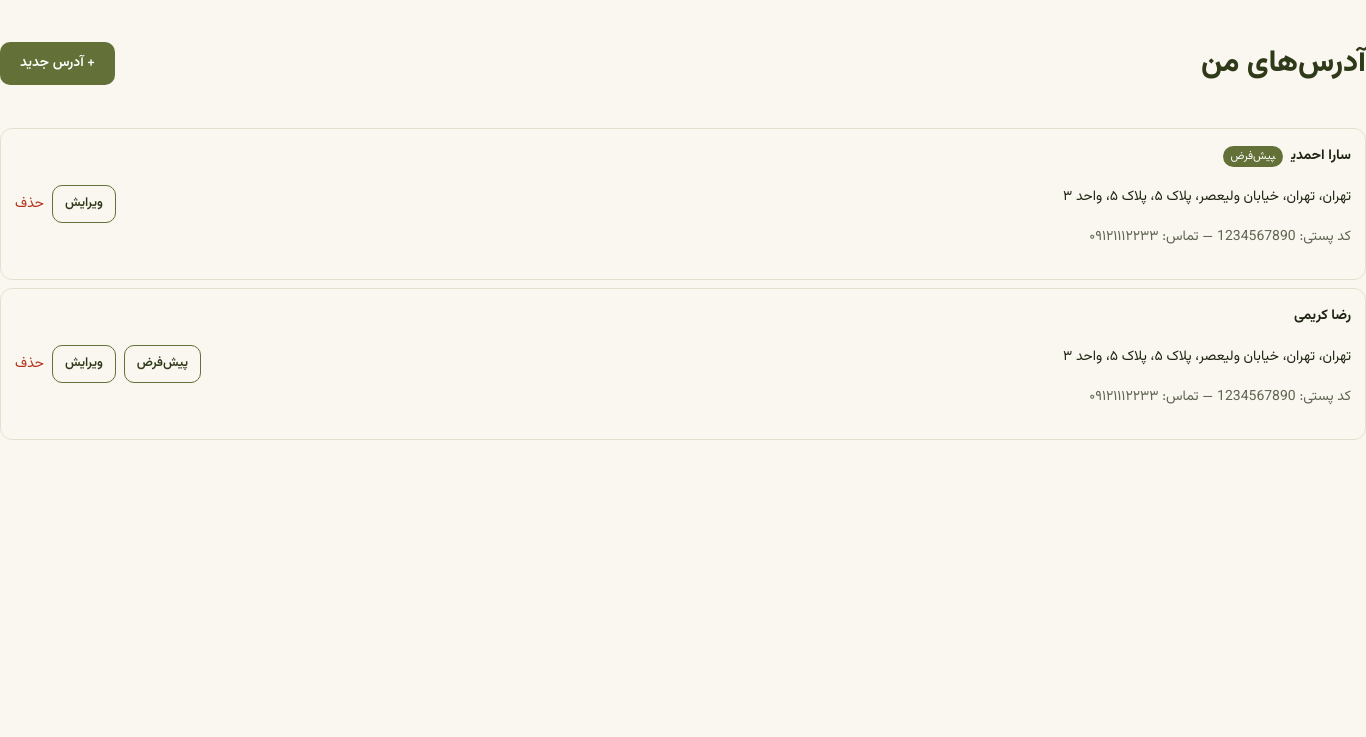
Test case: saved-address collection refreshes › re-fetches the paginated collection after default, edit and delete
The image size is (1366, 737).
Expected: the text "سارا احمدی" is shown, [1292,145,1351,167]
Click the button "پیش‌فرض" at (162, 364), box [124,345,201,383]
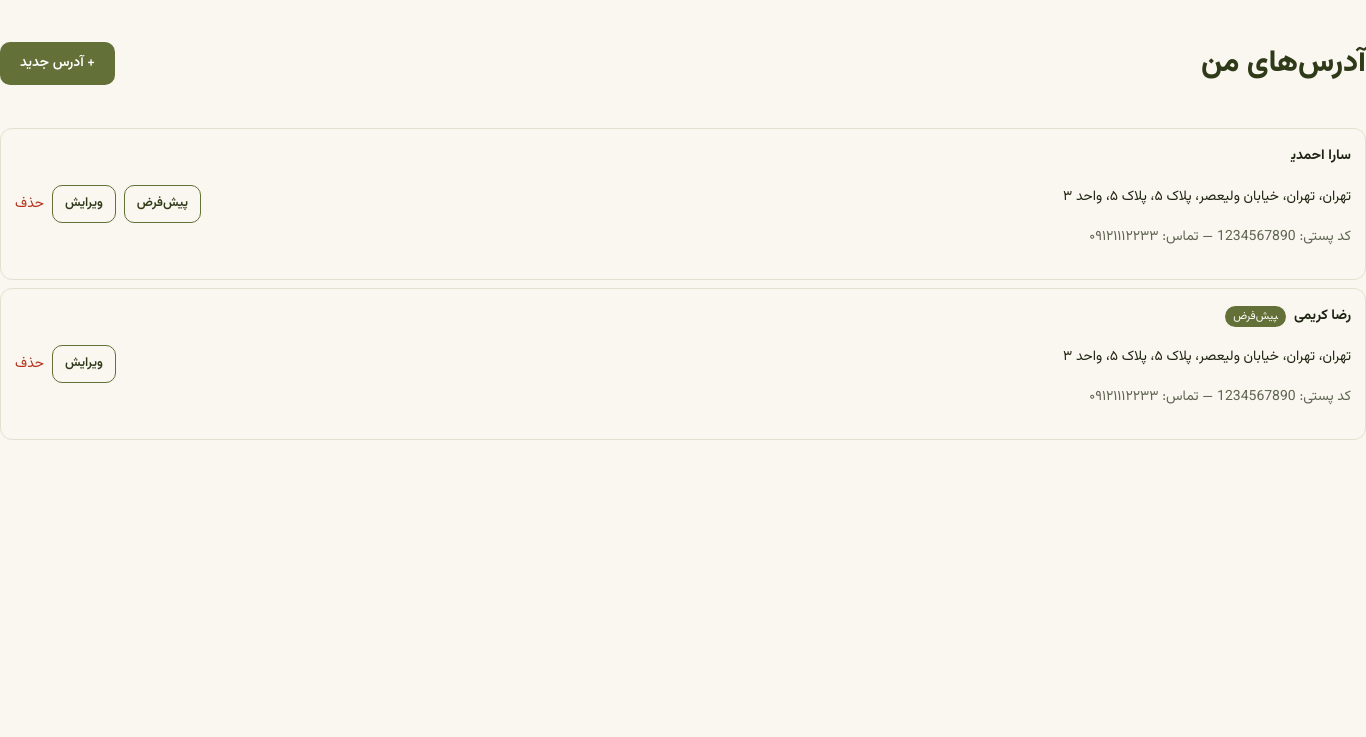
Expected: the text "پیش‌فرض" is shown, [1225,306,1286,327]
Click the 2nd button "ویرایش" at (84, 364), box [52,345,116,383]
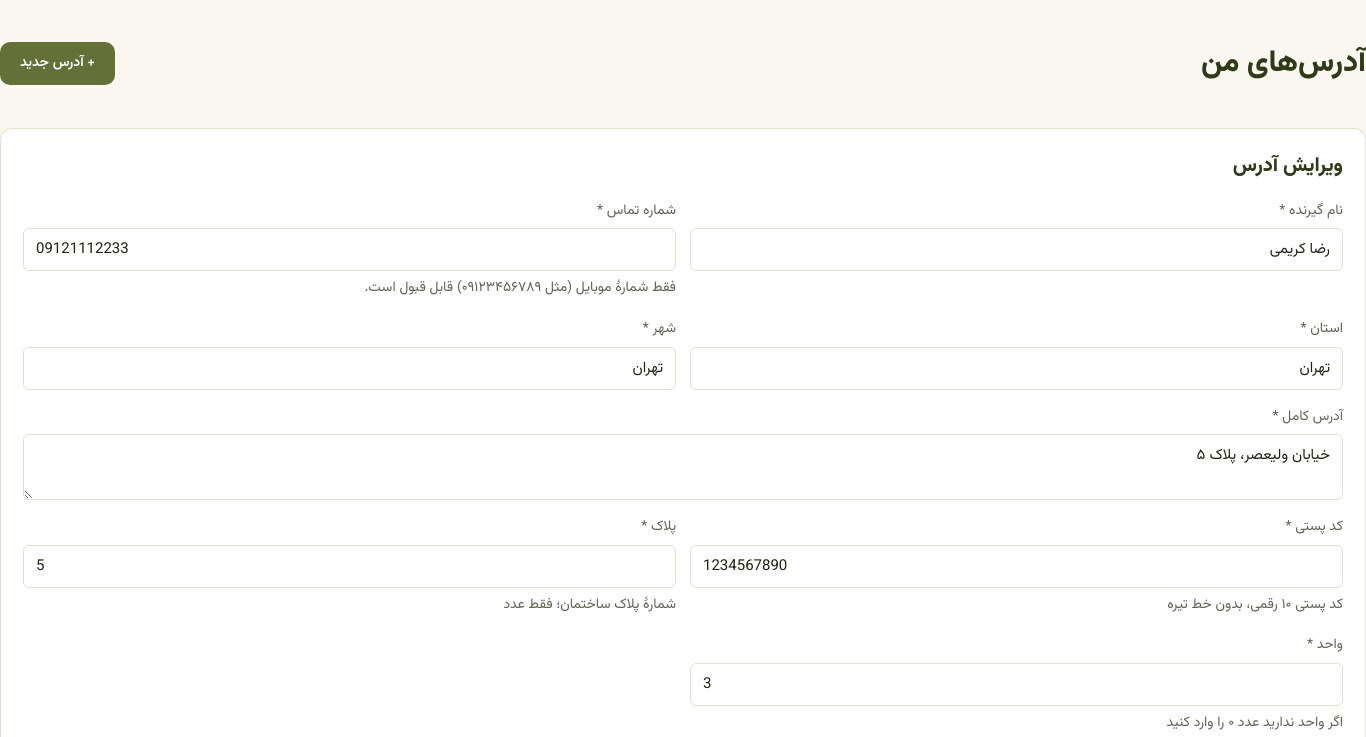
Replace the text in the field labelled "شهر *" with "کرج" at (350, 368), box [23,347,676,390]
(page scrolled)
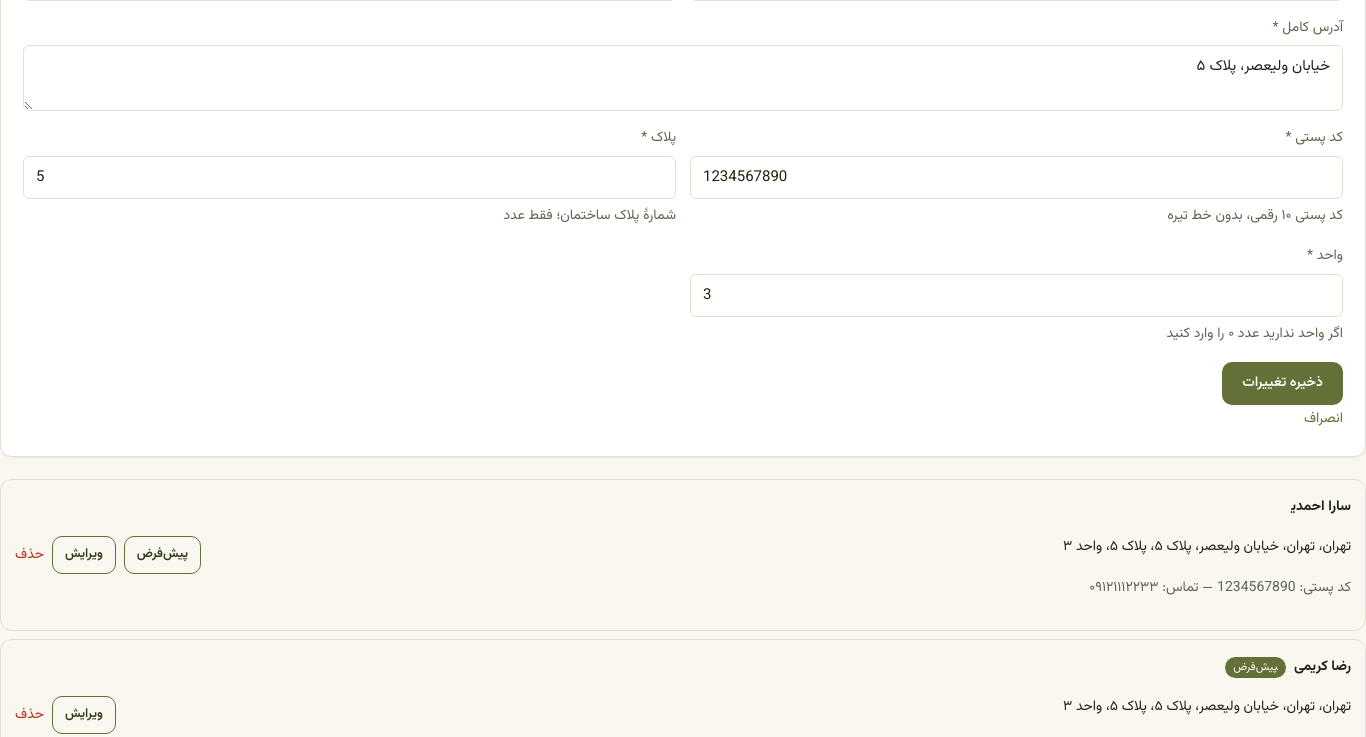
Click the button "ذخیره تغییرات" at (1283, 383), box [1222,362,1343,405]
(page scrolled)
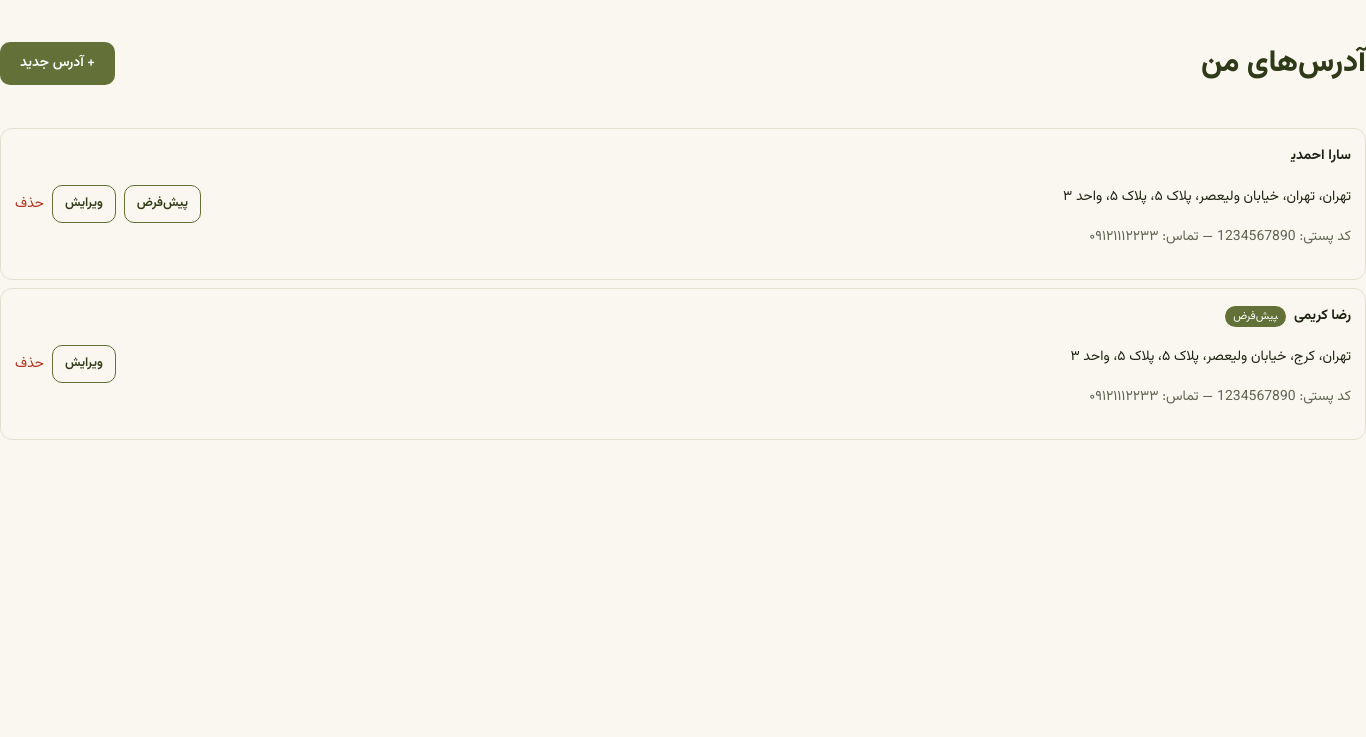
Expected: the text "تهران، کرج، خیابان ولیعصر، پلاک ۵، پلاک ۵، واحد ۳" is shown, [1070,344,1351,370]
Click the 2nd button "حذف" at (30, 364), box [15,353,44,375]
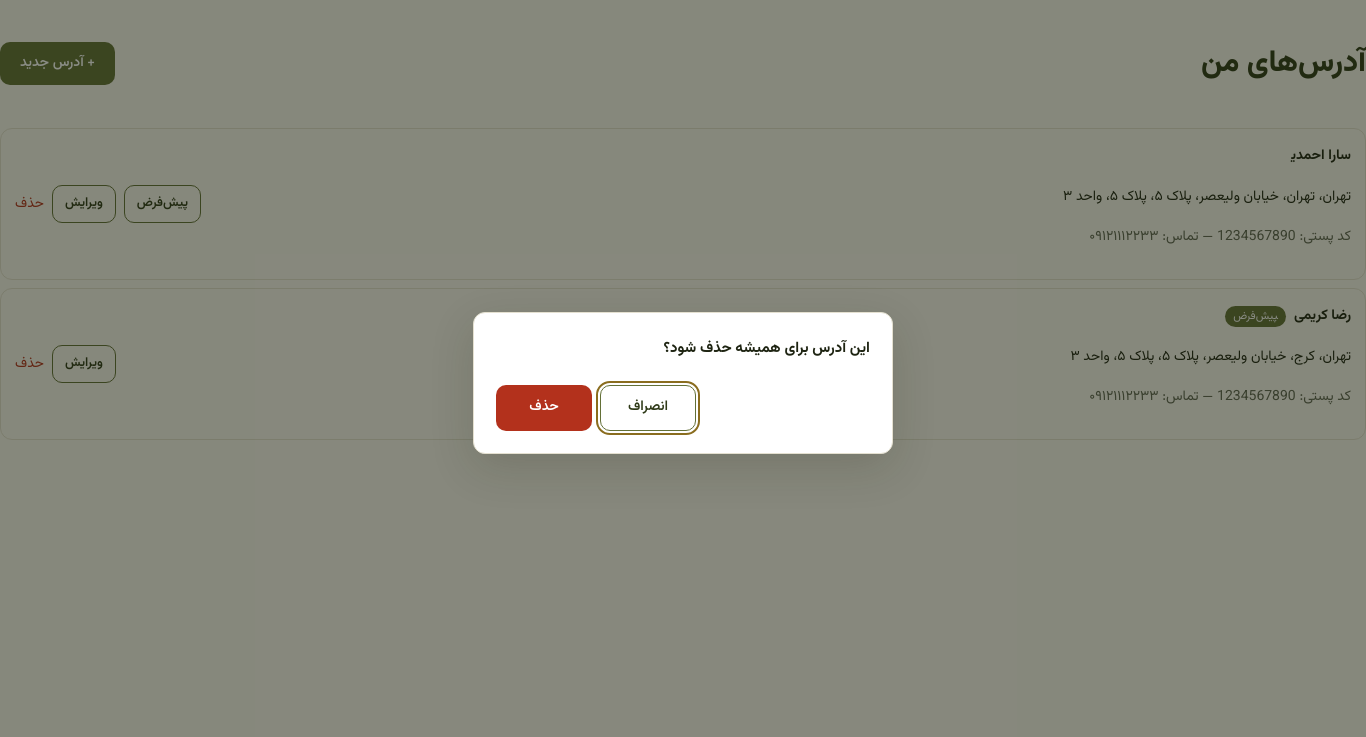
Click the button "حذف" at (544, 408), box [496,385,592,431]
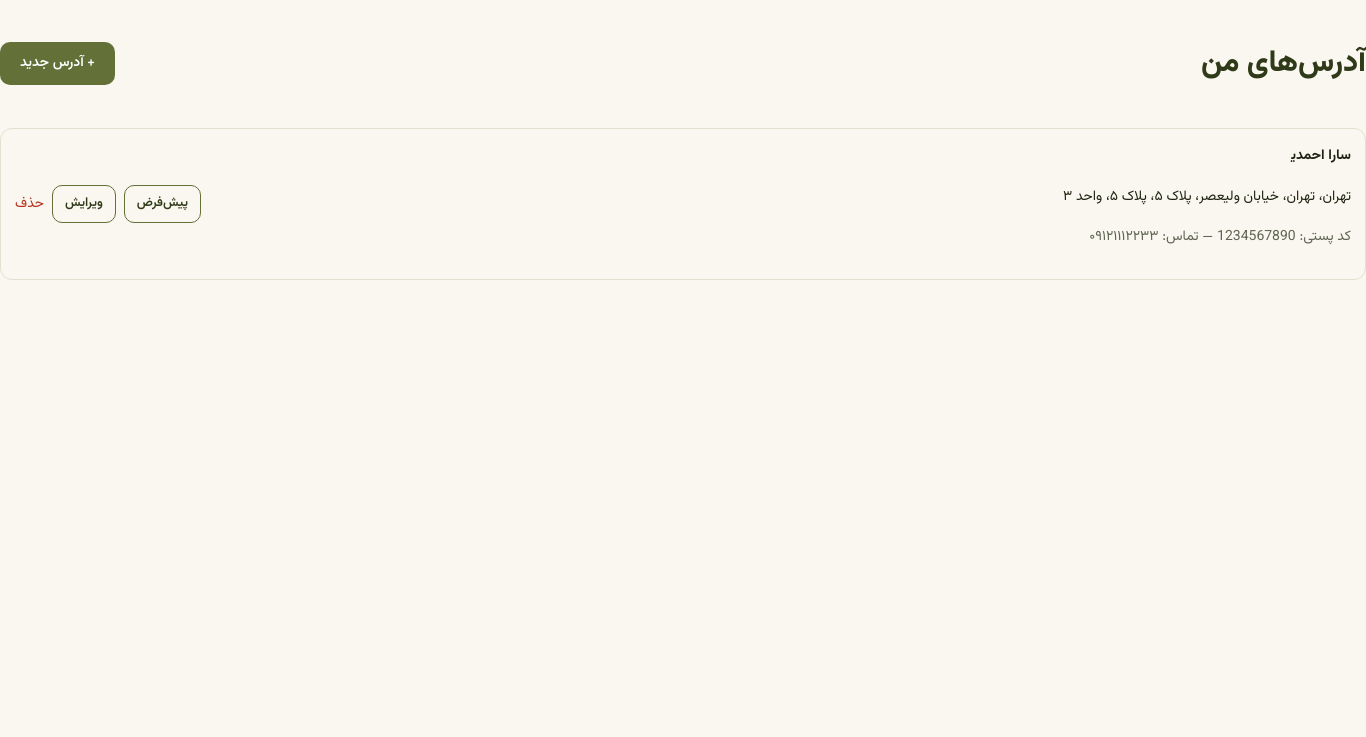
Expected: the text "رضا کریمی" is gone
